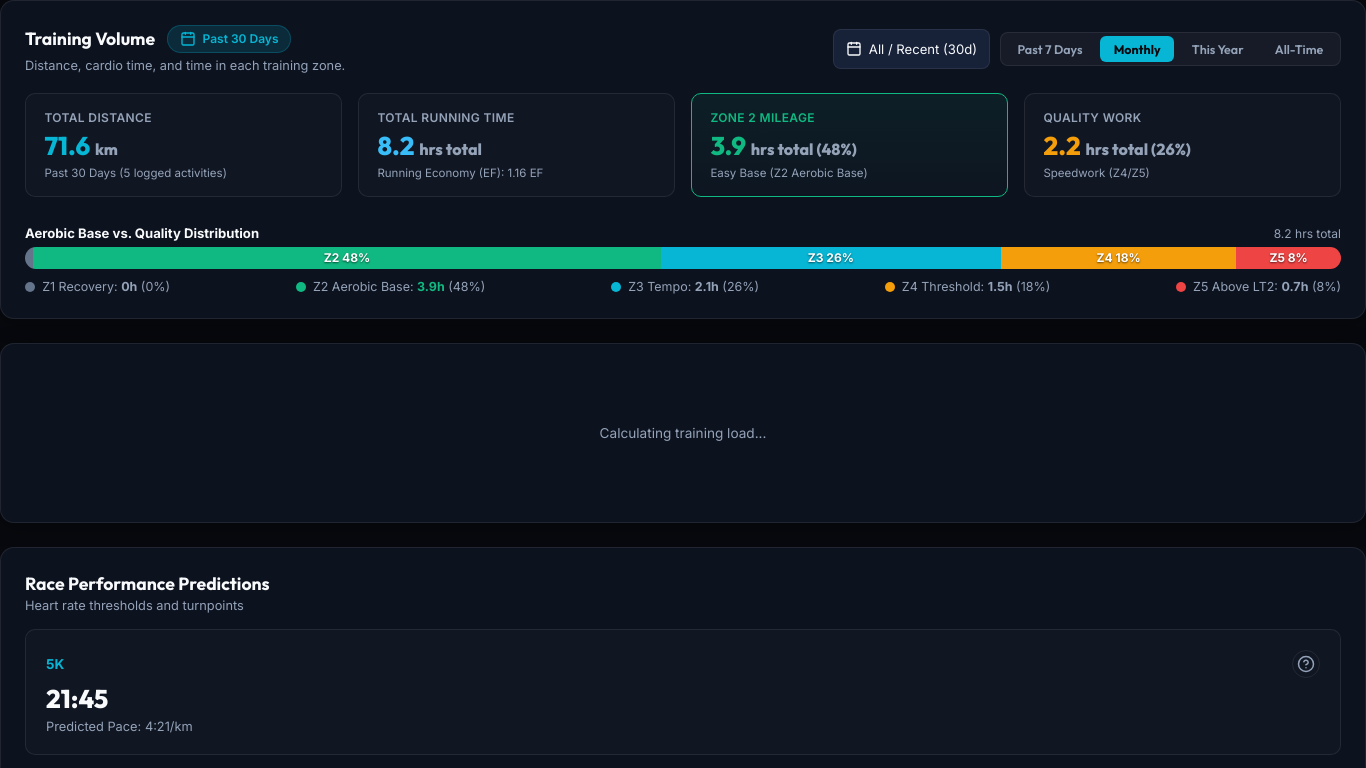
Test case: StatsView UI Tests › opens a dismissible month-picker dialog and applies the selected month
The image size is (1366, 768).
Click the button "All / Recent (30d)": [911, 49] box x1=833 y1=29 x2=990 y2=69
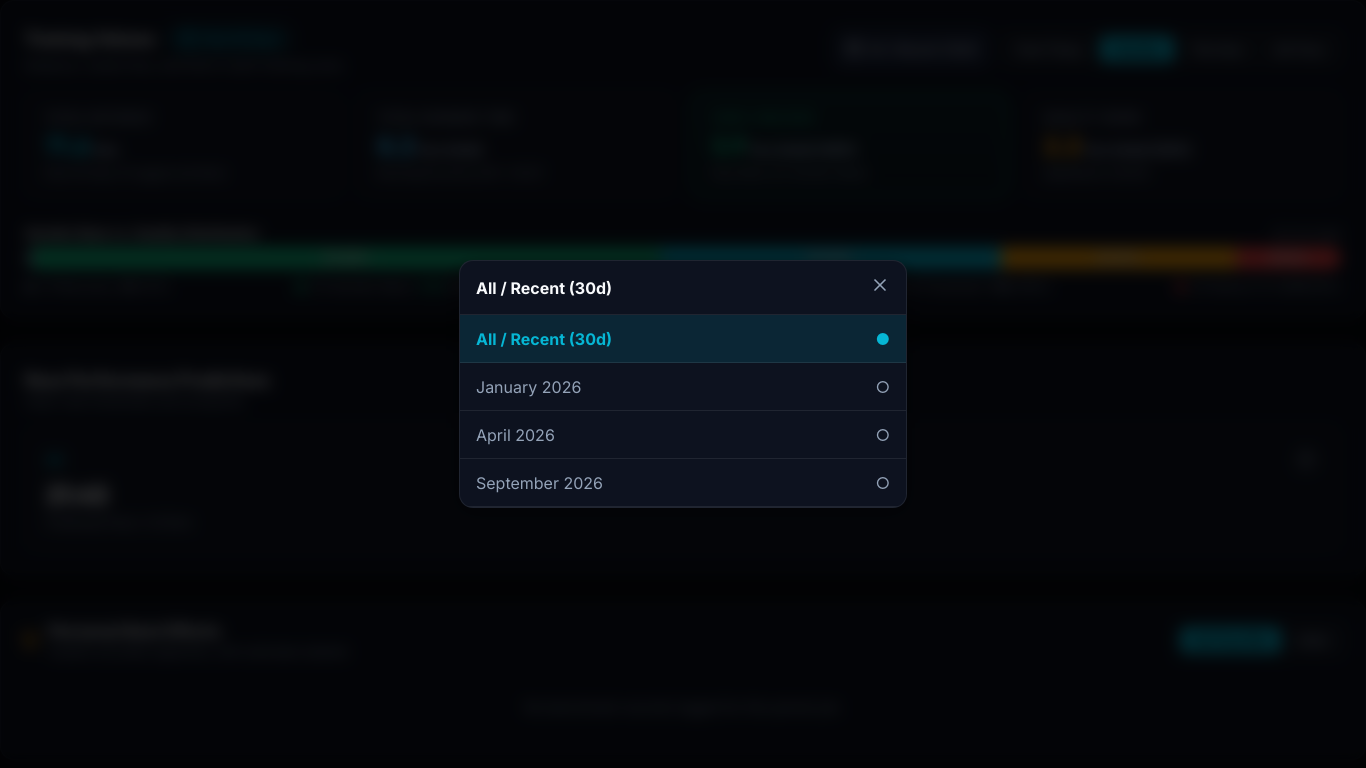
Now the number of buttons with class "month-picker-option" is 4
Click the button "September 2026 ○": [540, 483] box x1=460 y1=459 x2=906 y2=507
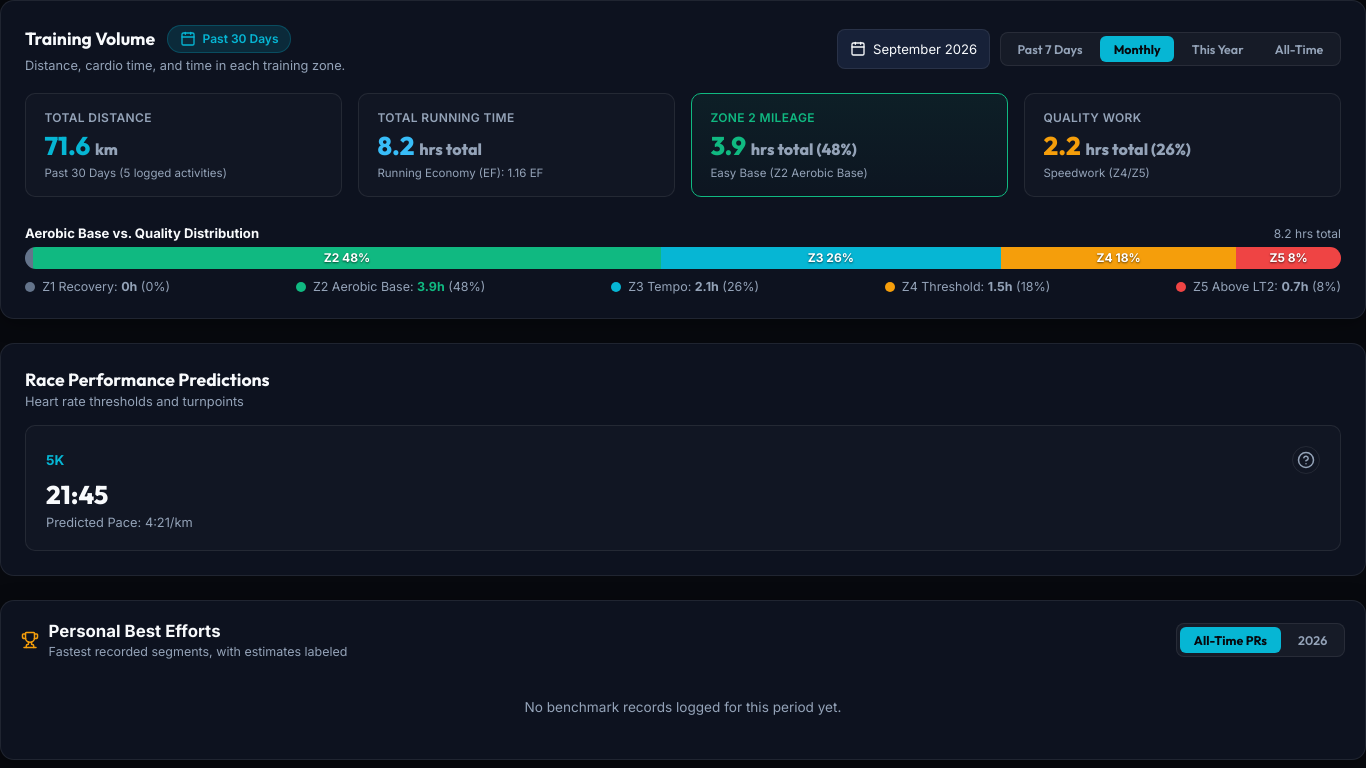
Now the dialog is gone
